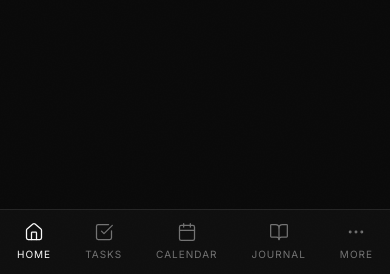
Test: More tray shows on More click
This screenshot has width=390, height=274.
Click the button "MORE".
click(356, 242)  # box [340,222,373,262]
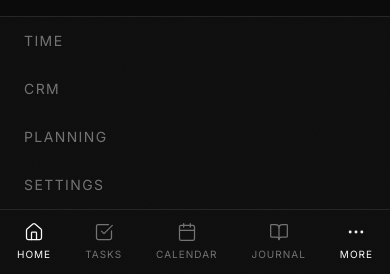
expect the link "TIME" is shown: met, box [24,32,64,49]
expect the link "CRM" is shown: met, box [24,80,60,97]
expect the link "PLANNING" is shown: met, box [24,128,108,145]
